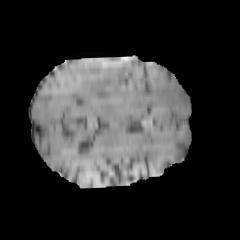glioma: (57, 56, 187, 111)
